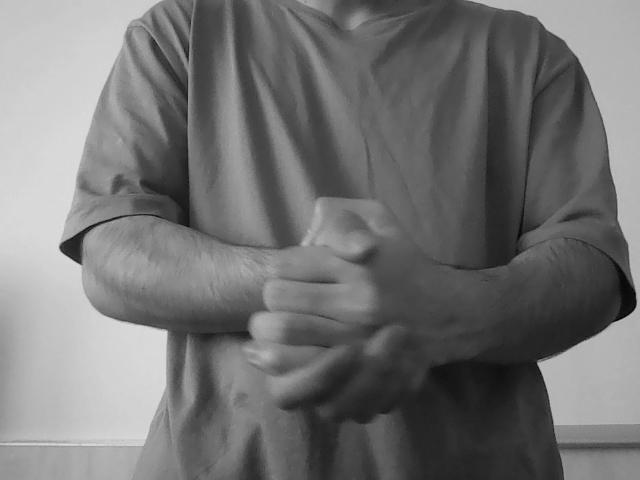friend: (251, 228, 455, 422)
